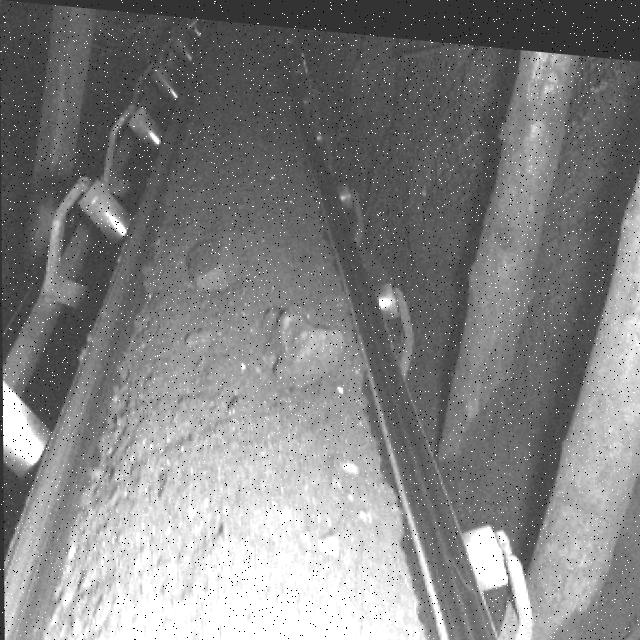large_sized_coal: (263, 305, 346, 383), (185, 235, 232, 290)
